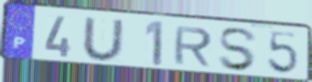1: (144, 19, 164, 68)
4: (44, 15, 73, 58)
5: (265, 30, 300, 76)
R: (172, 25, 214, 68)
S: (217, 27, 260, 73)
U: (81, 16, 126, 63)
